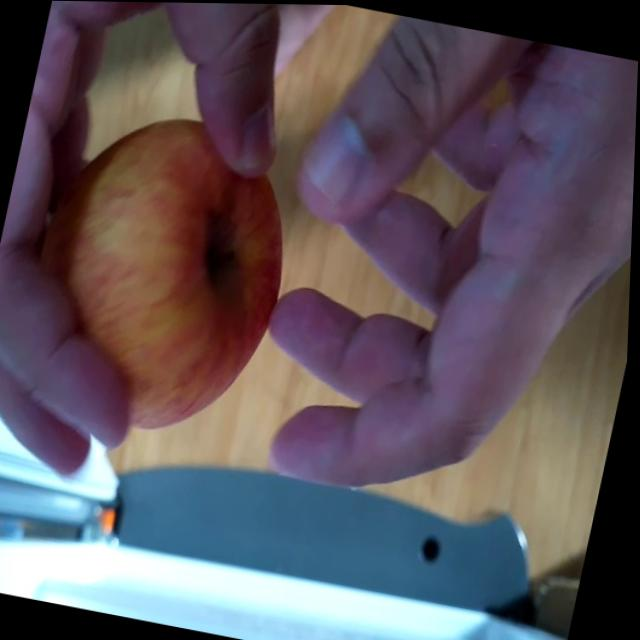apple: (19, 94, 314, 447)
